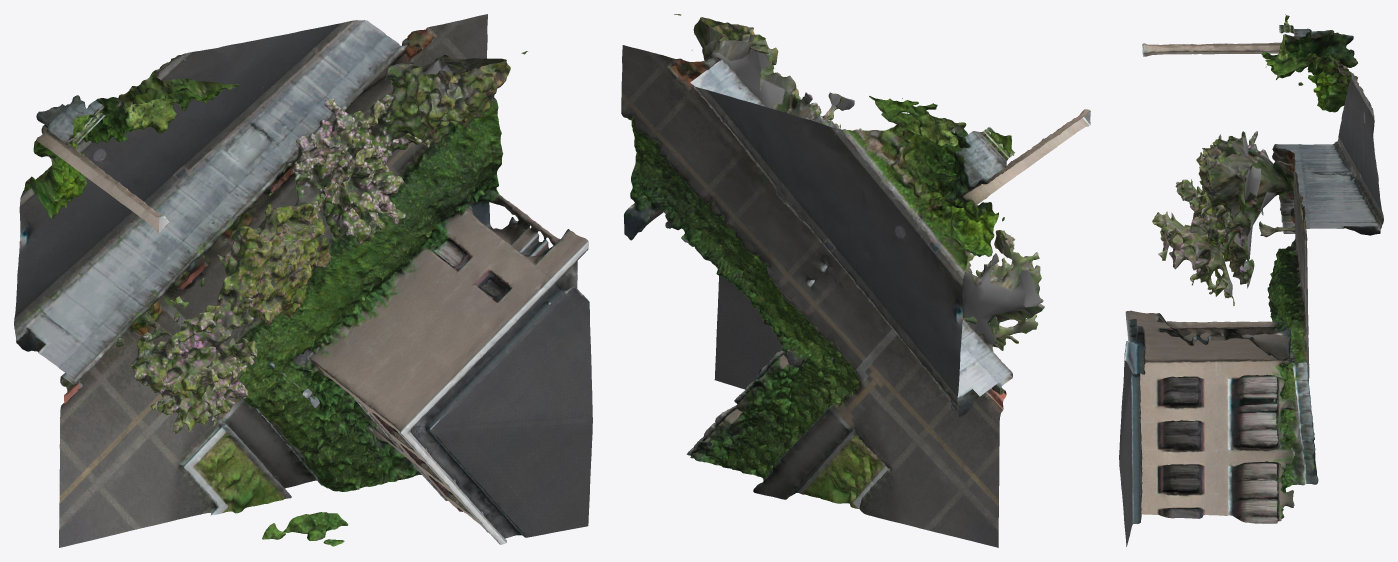
File: Tile_+007_+013.fbx
3 views of the same model, side by side, from view 1: azimuth 30°, elevation 25°; view 2: azimuth 150°, elevation 25°; view 3: azimuth 270°, elevation 25° (orthographic). The views are drawn at different scales.
Parts seen in each view (by area): view 1: DefaultName; view 2: DefaultName; view 3: DefaultName.
Boxes of the visible parts, box(x1,y1,x2,y2) form: DefaultName: box(14, 14, 592, 547); DefaultName: box(621, 14, 1090, 547); DefaultName: box(1119, 14, 1383, 546).
Size of the model in its own units: 22.54 by 22.54 by 14.86.
